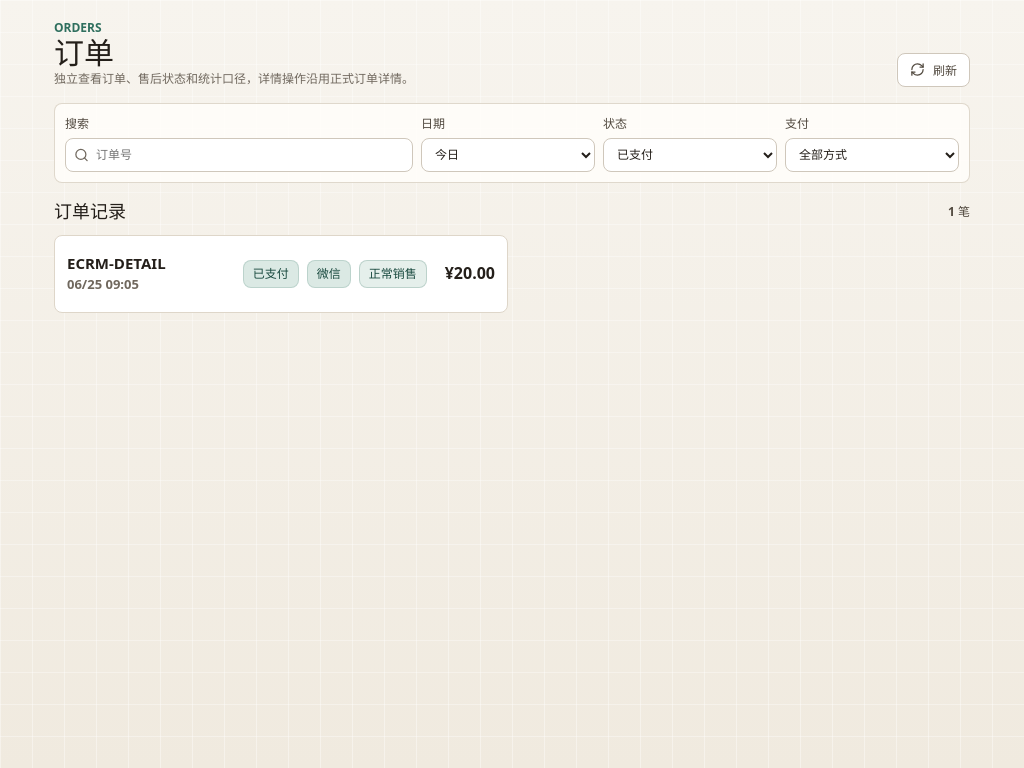
Test: opens order detail from the independent order page
Click the button with aria-label "查看订单 ECRM-DETAIL": [281, 274] box [67, 248, 495, 300]
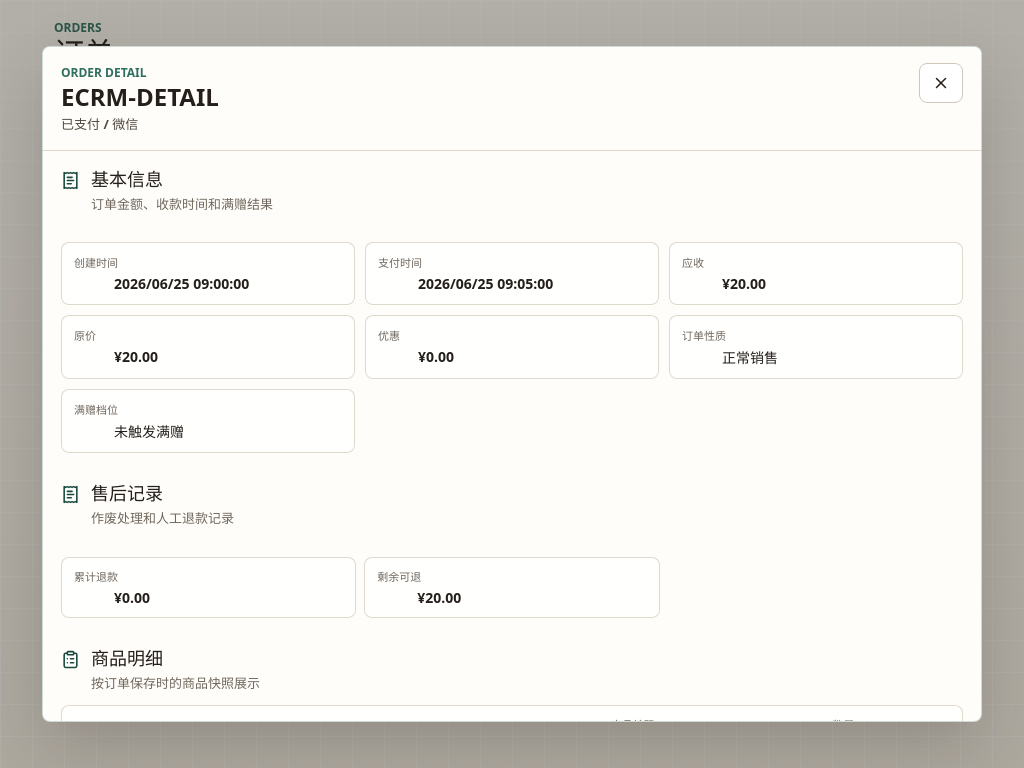
Expected: the dialog named "订单详情" is shown
